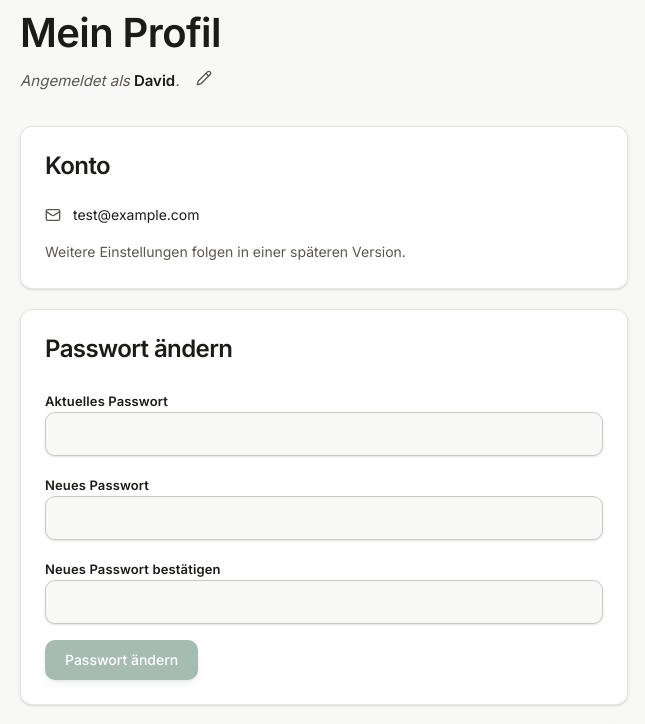
Test: <ProfilePage /> › displayname inline-edit › clicking the pencil shows an input prefilled with the current name
The width and height of the screenshot is (645, 724).
Step 1. Click the button named "anzeigenamen bearbeiten" → point(204, 78), box [188,62,220,94]
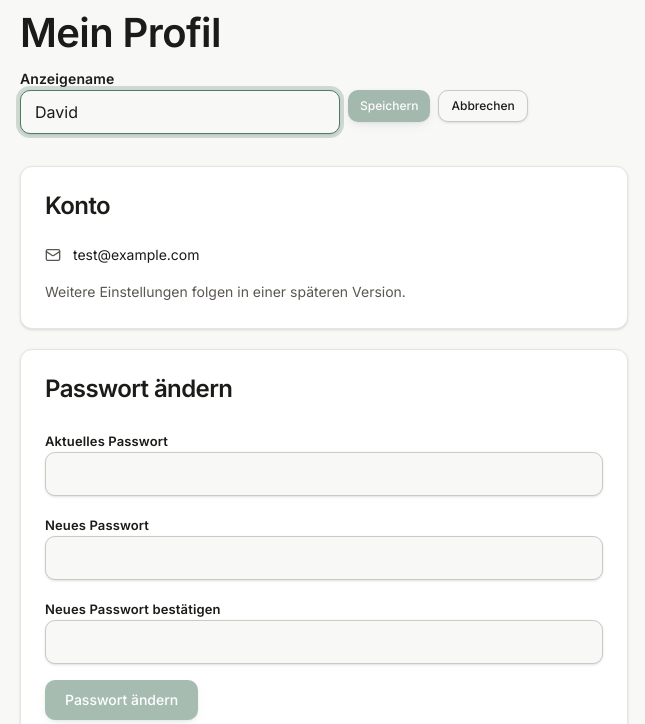
Expected: the field labelled "Anzeigename" holds "David", [20,90,340,134]
